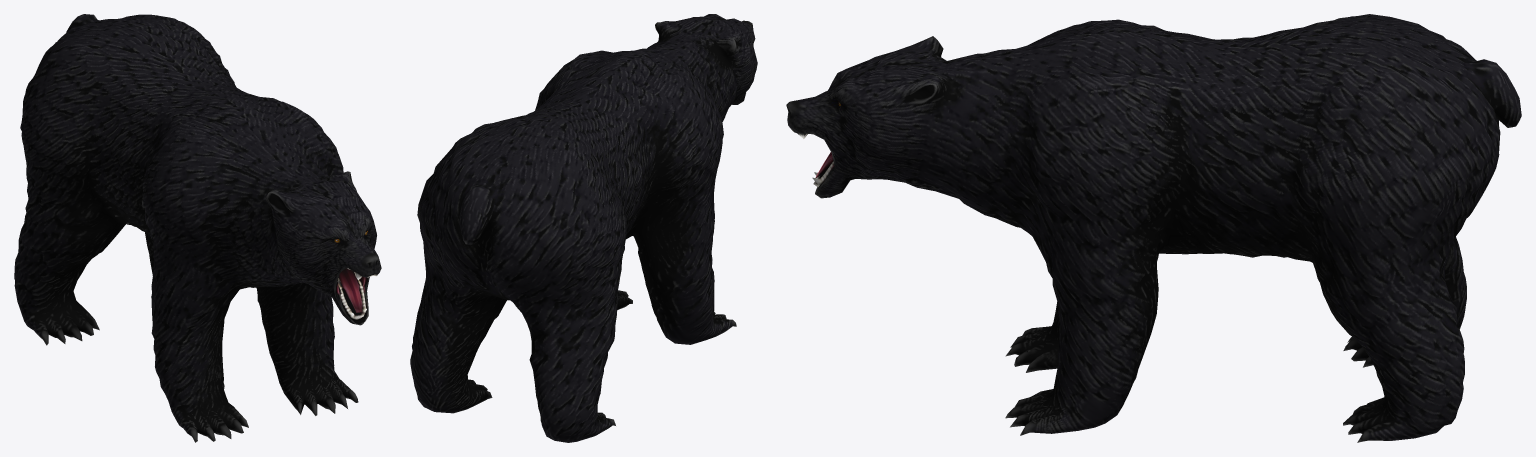
File: MZ4250 - Bear Black.glb
3 renders of one model, left to right at view 1: azimuth 30°, elevation 25°; view 2: azimuth 150°, elevation 25°; view 3: azimuth 270°, elevation 25°, orthographic. The views are drawn at different scales.
Parts seen in each view (by area): view 1: body_low.001; view 2: body_low.001; view 3: body_low.001.
Boxes of the visible parts, left/top/right/bottom form: body_low.001: left=14, top=14, right=381, bottom=442; body_low.001: left=410, top=14, right=757, bottom=442; body_low.001: left=786, top=14, right=1521, bottom=442.
Size of the model in its own units: 4.7 by 6.55 by 12.15.
Materials: 1 (1 with a texture image).
